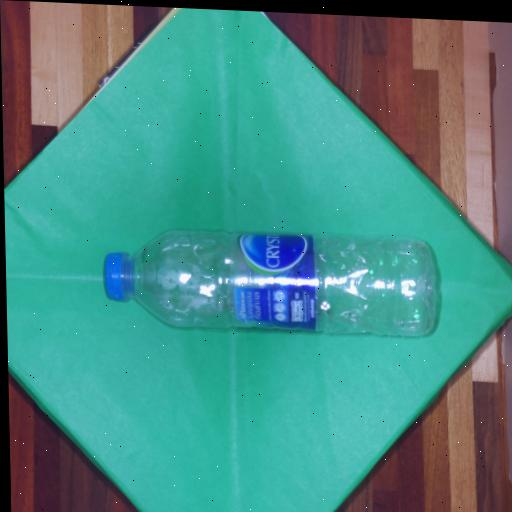bottle: (106, 228, 443, 338)
